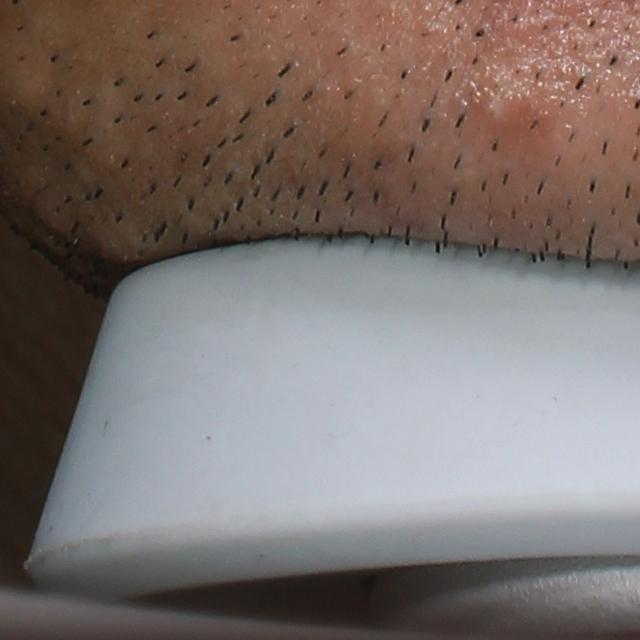pustule: (467, 80, 530, 143)
